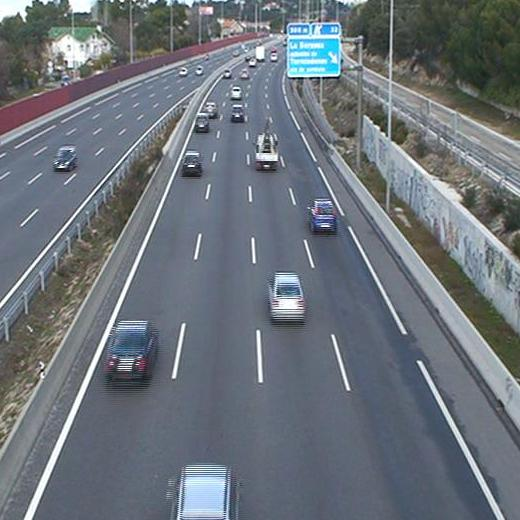car: (107, 327, 153, 381), (270, 272, 304, 320), (309, 200, 335, 229), (182, 152, 201, 174), (195, 115, 208, 132), (204, 103, 216, 119), (232, 104, 242, 121), (230, 86, 242, 99), (239, 69, 249, 79), (223, 69, 231, 79)
small-truck: (255, 132, 280, 173)
